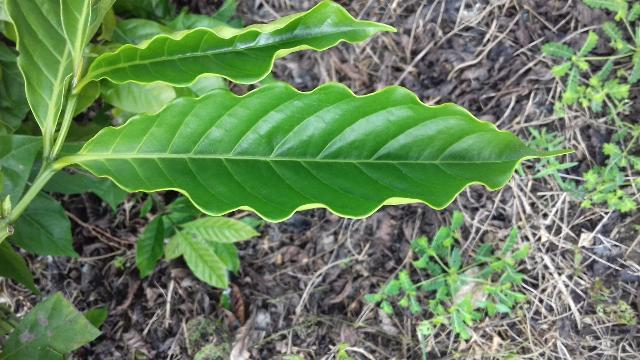healthy: (55, 83, 577, 223)
